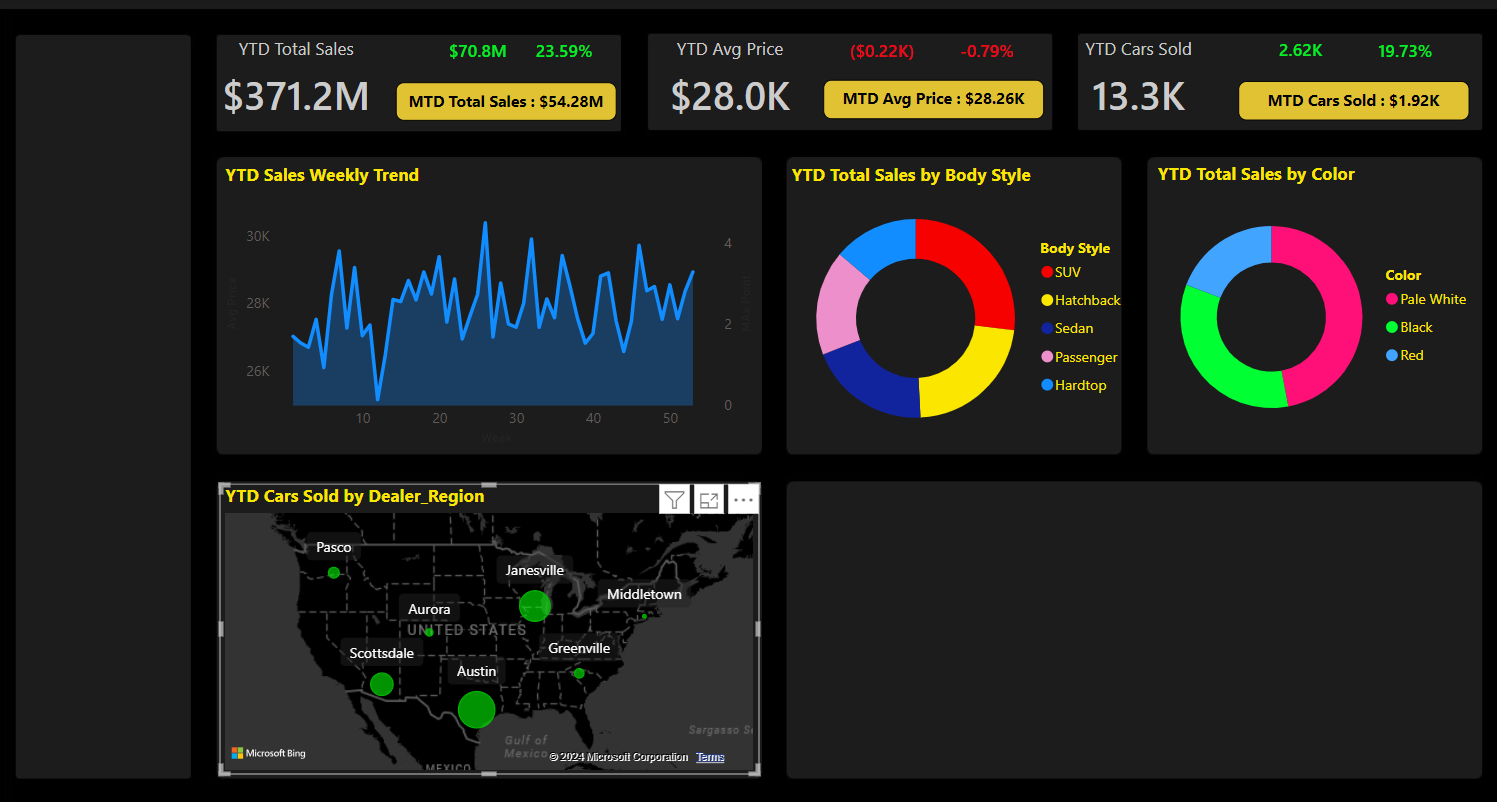

This screenshot's page, from the dashboard's own definition file:
{"tool":"powerbi","page":{"name":"Overview","canvas":[1280,720],"ordinal":0},"visuals":[{"type":"card","title":"YTD Total Sales","fields":{"Values":["car_data.YTD Total Sales"]},"box":[170.3,63.5,169,81.1],"z":0},{"type":"card","fields":{"Values":["car_data.Sales Diffrence"]},"box":[365,63.5,89.2,29.7],"z":1000},{"type":"card","fields":{"Values":["car_data.YoY Sales Growth"]},"box":[438,63.5,89.2,29.7],"z":2000},{"type":"card","fields":{"Values":["car_data.MTD KPI"]},"box":[339.3,102.7,187.9,33],"z":3000},{"type":"card","title":"YTD Avg Price","fields":{"Values":["car_data.YTD Avg Price"]},"box":[539.4,63.5,169,81.1],"z":4000},{"type":"card","fields":{"Values":["car_data.Avg Price Diff"]},"box":[708.4,63.5,89.2,29.7],"z":5000},{"type":"card","fields":{"Values":["car_data.YoY Avg Price Growth"]},"box":[797.6,63.5,89.2,29.7],"z":6000},{"type":"card","fields":{"Values":["car_data.MPd Avg Price KPI"]},"box":[703,101.4,187.9,33.8],"z":7000},{"type":"card","title":"YTD Cars Sold","fields":{"Values":["car_data.YTD Cars Sold"]},"box":[886.9,63.5,169,81.1],"z":8000},{"type":"card","fields":{"Values":["car_data.Cars Sold Diff"]},"box":[1064.4,63,89.7,30.3],"z":9000},{"type":"card","fields":{"Values":["car_data.Yoy Car Sold Growth"]},"box":[1154.5,63.5,89.2,29.7],"z":10000},{"type":"card","fields":{"Values":["car_data.MTD Cars Sold KPI"]},"box":[1056,101.8,196.4,33.9],"z":11000},{"type":"areaChart","title":"YTD Sales Weekly Trend","fields":{"Category":["Calendar Table.Week"],"Y":["car_data.Avg Price"],"Y2":["car_data.MAx Point"]},"box":[189.1,170.9,459.5,246.1],"z":12000},{"type":"donutChart","fields":{"Category":["car_data.Body Style"],"Y":["car_data.YTD Total Sales"]},"box":[671.6,170.9,299.5,246.1],"z":13000},{"type":"donutChart","fields":{"Y":["car_data.YTD Total Sales"],"Category":["car_data.Color"]},"box":[982.9,170.3,281.6,246],"z":14000},{"type":"map","fields":{"Category":["car_data.Dealer_Region"],"Size":["car_data.YTD Cars Sold"]},"box":[189.5,444.2,459.3,248.8],"z":15000},{"type":"tableEx","title":"Company Wise Sales Trend","fields":{"Values":["car_data.Company","car_data.YTD Avg Price","car_data.YTD Cars Sold","car_data.YTD Total Sales1","car_data.YTD Total Sales"]},"box":[671.3,444.7,593.6,248.9],"z":16000},{"type":"textbox","box":[407,0,401.2,40.7],"z":17000},{"type":"slicer","fields":{"Values":["car_data.Body Style"]},"box":[16,334,146.8,83],"z":18000},{"type":"slicer","fields":{"Values":["car_data.Dealer_Name"]},"box":[16,425.5,146.8,83],"z":19000},{"type":"slicer","fields":{"Values":["car_data.Transmission"]},"box":[16,516,146.8,83],"z":20000},{"type":"slicer","fields":{"Values":["car_data.Engine"]},"box":[16,610.6,146.8,83],"z":21000},{"type":"textbox","title":"Filters","box":[16,312.8,51.1,12.8],"z":22000},{"type":"pageNavigator","box":[16.2,145,146.2,158.8],"z":23000},{"type":"textbox","title":"Sales Insights","box":[16.2,72.5,146.2,31.2],"z":24000},{"type":"textbox","title":"Menu","box":[16.2,112.5,103.8,22.5],"z":25000}]}

Visuals, with their boxes on the page's 1280x720 design canvas (x1, y1, x2, y2). These are canvas units, not pixel positions in the 1497x802 screenshot, which may show the page scaled, cropped or inside an application window:
"YTD Total Sales" card: region(170, 64, 339, 145)
card - car_data.Sales Diffrence: region(365, 64, 454, 93)
card - car_data.YoY Sales Growth: region(438, 64, 527, 93)
card - car_data.MTD KPI: region(339, 103, 527, 136)
"YTD Avg Price" card: region(539, 64, 708, 145)
card - car_data.Avg Price Diff: region(708, 64, 798, 93)
card - car_data.YoY Avg Price Growth: region(798, 64, 887, 93)
card - car_data.MPd Avg Price KPI: region(703, 101, 891, 135)
"YTD Cars Sold" card: region(887, 64, 1056, 145)
card - car_data.Cars Sold Diff: region(1064, 63, 1154, 93)
card - car_data.Yoy Car Sold Growth: region(1154, 64, 1244, 93)
card - car_data.MTD Cars Sold KPI: region(1056, 102, 1252, 136)
"YTD Sales Weekly Trend" areaChart: region(189, 171, 649, 417)
donutChart - car_data.Body Style x car_data.YTD Total Sales: region(672, 171, 971, 417)
donutChart - car_data.YTD Total Sales x car_data.Color: region(983, 170, 1264, 416)
map - car_data.Dealer_Region x car_data.YTD Cars Sold: region(190, 444, 649, 693)
"Company Wise Sales Trend" tableEx: region(671, 445, 1265, 694)
textbox: region(407, 0, 808, 41)
slicer - car_data.Body Style: region(16, 334, 163, 417)
slicer - car_data.Dealer_Name: region(16, 426, 163, 508)
slicer - car_data.Transmission: region(16, 516, 163, 599)
slicer - car_data.Engine: region(16, 611, 163, 694)
"Filters" textbox: region(16, 313, 67, 326)
pageNavigator: region(16, 145, 162, 304)
"Sales Insights" textbox: region(16, 72, 162, 104)
"Menu" textbox: region(16, 112, 120, 135)
